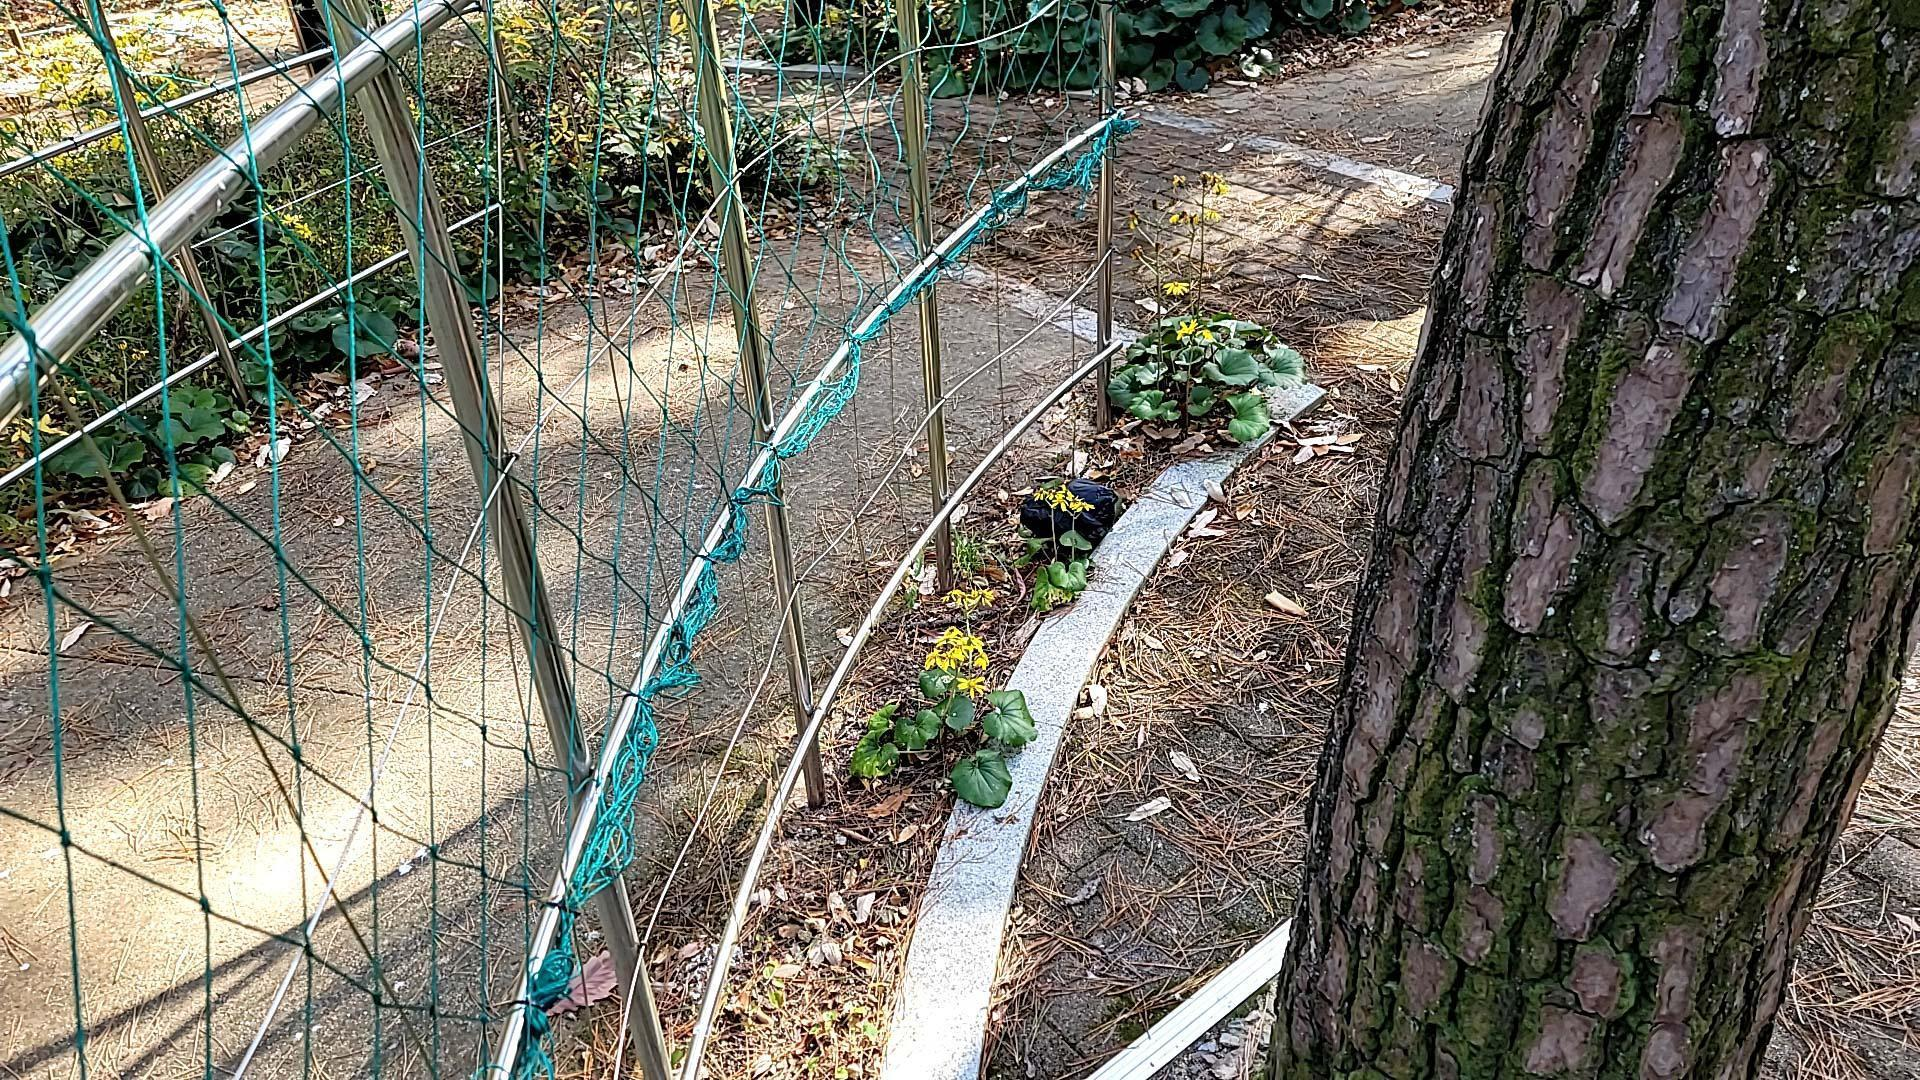black_bag: (1022, 477, 1122, 553)
